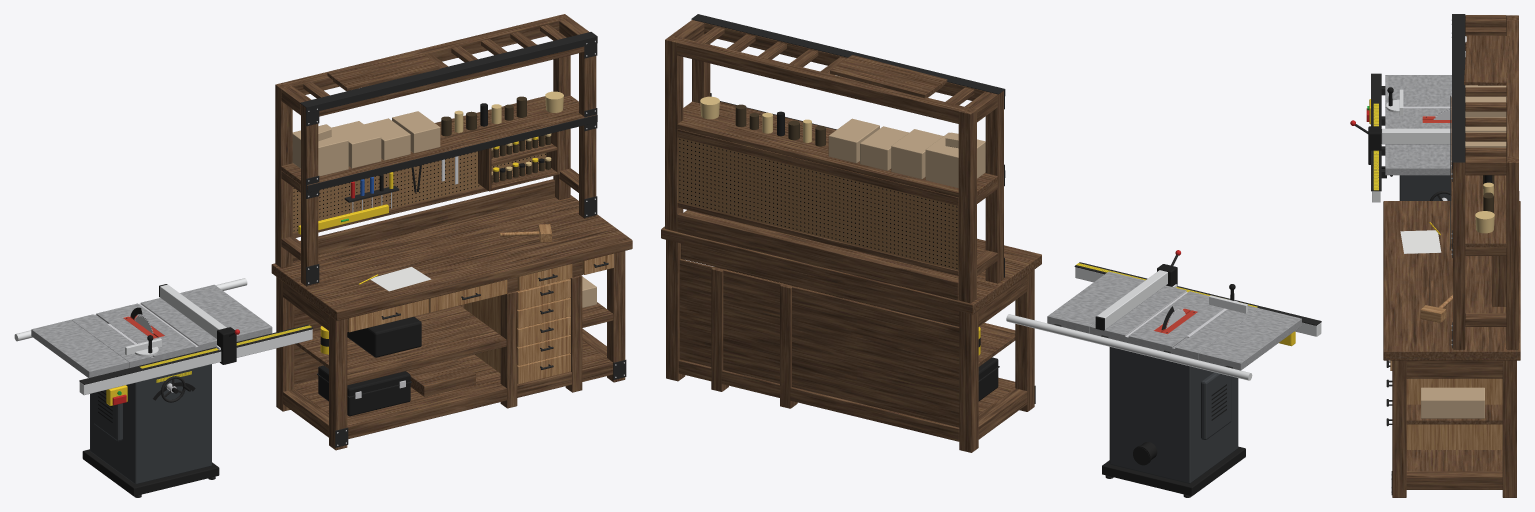
Rendered from workshop.glb.
The picture shows the model from 3 angles, left to right: view 1: azimuth 30°, elevation 25°; view 2: azimuth 150°, elevation 25°; view 3: azimuth 270°, elevation 25°; orthographic projection. The views are drawn at different scales.
Parts seen in each view (by area): view 1: Werkstatt_Nussbaum_X, Werkstatt_Nussbaum_Z, Werkstatt_Lack_Anthrazit, Werkstatt_Stahl_schwarz, Werkstatt_Holz_hell_X, Werkstatt_Grauguss, Werkstatt_Kunststoff_schwarz, Werkstatt_Karton, Werkstatt_Lochwand, Werkstatt_Nussbaum_Y, Werkstatt_Aluminium, Werkstatt_Glas_dunkel (+3 smaller); view 2: Werkstatt_Nussbaum_X, Werkstatt_Nussbaum_Z, Werkstatt_Lochwand, Werkstatt_Lack_Anthrazit, Werkstatt_Grauguss, Werkstatt_Karton, Werkstatt_Nussbaum_Y, Werkstatt_Aluminium, Werkstatt_Kunststoff_schwarz, Werkstatt_Stahl_schwarz, Werkstatt_Glas_dunkel, Werkstatt_Messing; view 3: Werkstatt_Nussbaum_X, Werkstatt_Nussbaum_Z, Werkstatt_Nussbaum_Y, Werkstatt_Grauguss, Werkstatt_Holz_hell_X, Werkstatt_Stahl_schwarz, Werkstatt_Karton, Werkstatt_Aluminium, Werkstatt_Lack_Anthrazit, Werkstatt_Papier, Werkstatt_Kunststoff_schwarz, Werkstatt_Messing (+4 smaller).
Boxes of the visible parts, x1,y1,x2,y2 form: Werkstatt_Nussbaum_X: (271,16,632,438); Werkstatt_Nussbaum_Z: (275,14,625,450); Werkstatt_Lack_Anthrazit: (90,364,211,484); Werkstatt_Stahl_schwarz: (79,32,626,447); Werkstatt_Holz_hell_X: (347,231,613,384); Werkstatt_Grauguss: (31,284,272,377); Werkstatt_Kunststoff_schwarz: (82,103,544,496); Werkstatt_Karton: (292,111,596,307); Werkstatt_Lochwand: (292,135,546,232); Werkstatt_Nussbaum_Y: (281,18,606,437); Werkstatt_Aluminium: (14,278,312,395); Werkstatt_Glas_dunkel: (441,96,550,183); Werkstatt_Nussbaum_X: (661,22,1041,441); Werkstatt_Nussbaum_Z: (665,21,1034,452); Werkstatt_Lochwand: (678,137,958,270); Werkstatt_Lack_Anthrazit: (1109,347,1238,483); Werkstatt_Grauguss: (1047,271,1301,370); Werkstatt_Karton: (828,118,985,188); Werkstatt_Nussbaum_Y: (671,20,1027,439); Werkstatt_Aluminium: (1006,267,1321,380); Werkstatt_Kunststoff_schwarz: (777,111,1245,496); Werkstatt_Stahl_schwarz: (691,14,1321,403); Werkstatt_Glas_dunkel: (735,104,825,146); Werkstatt_Messing: (700,96,811,142); Werkstatt_Nussbaum_X: (1383,15,1520,471); Werkstatt_Nussbaum_Z: (1392,15,1518,497); Werkstatt_Nussbaum_Y: (1406,15,1506,489); Werkstatt_Grauguss: (1385,75,1451,175); Werkstatt_Holz_hell_X: (1390,294,1502,449); Werkstatt_Stahl_schwarz: (1355,14,1465,494); Werkstatt_Karton: (1421,85,1506,418); Werkstatt_Aluminium: (1372,89,1451,202); Werkstatt_Lack_Anthrazit: (1399,175,1451,200); Werkstatt_Papier: (1400,230,1441,253); Werkstatt_Kunststoff_schwarz: (1368,87,1492,182); Werkstatt_Messing: (1475,182,1494,233).
Bounding box in the file's own units: 3.75 × 2.1 × 0.956.
Materials: 26 (9 with a texture image).
